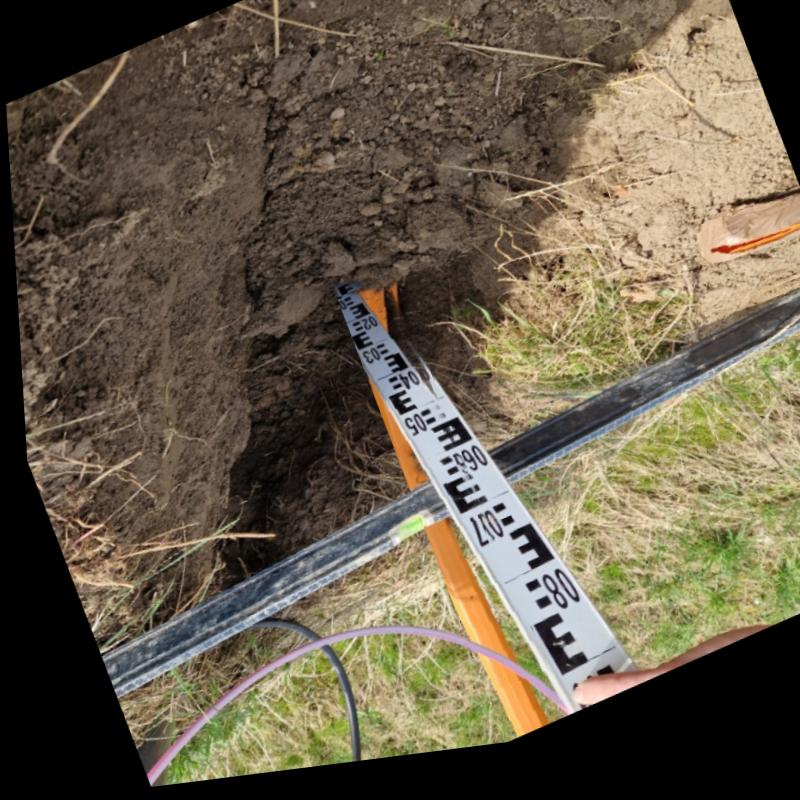Orang-Speednetrohrchen: (347, 286, 538, 748)
